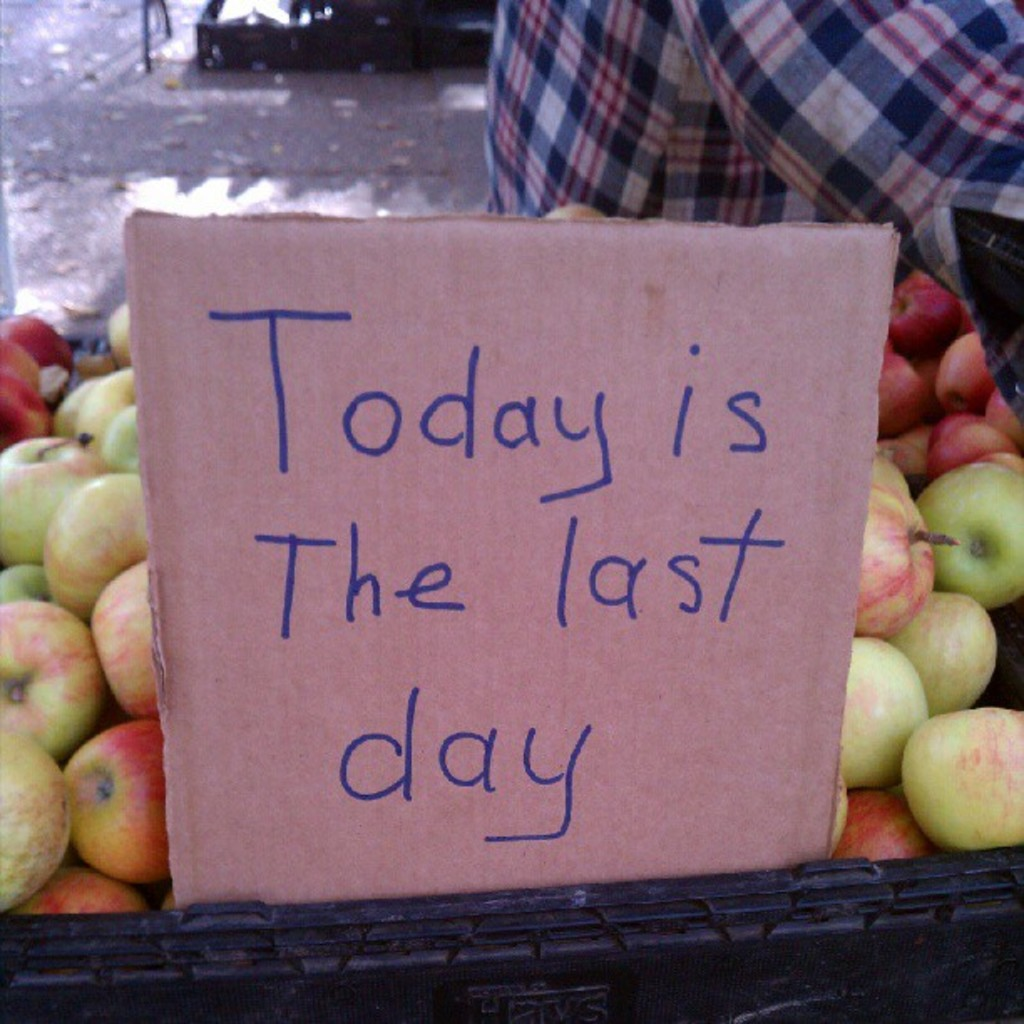Apple: (0, 199, 1022, 915), (50, 727, 177, 905)
